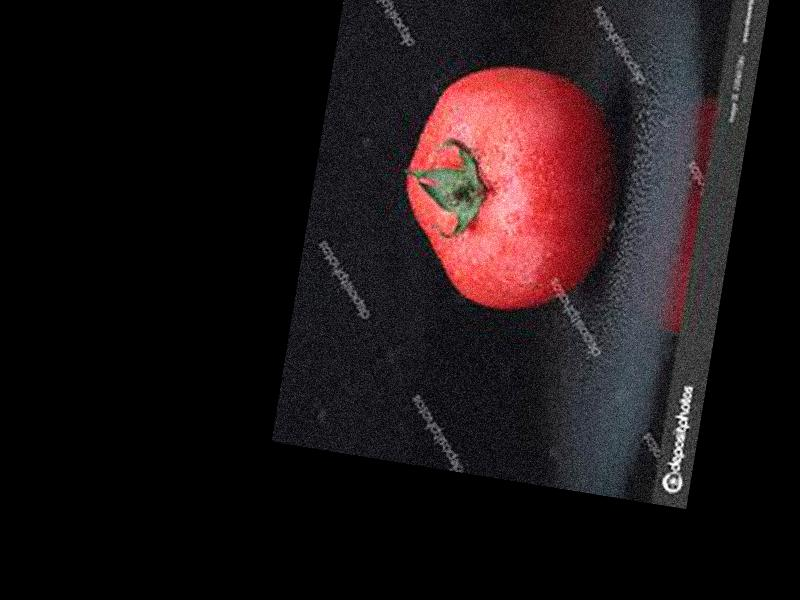Tomato: (386, 50, 633, 325)
